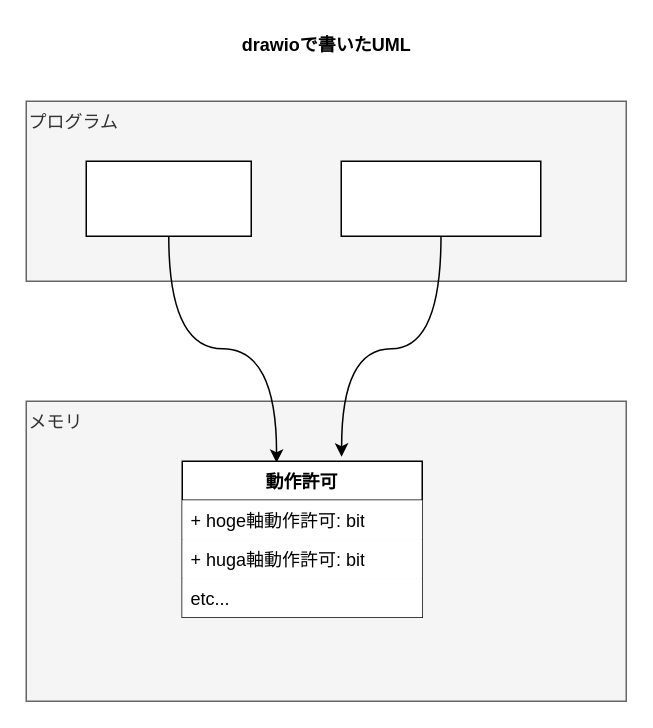
The diagram is 653 pixels wide and 728 high, and some of its shapes have lost their labels. The centre of each missing label's shape, as x and y in pixels:
インタロック: (168,198)
ビジネスルール: (440,198)
